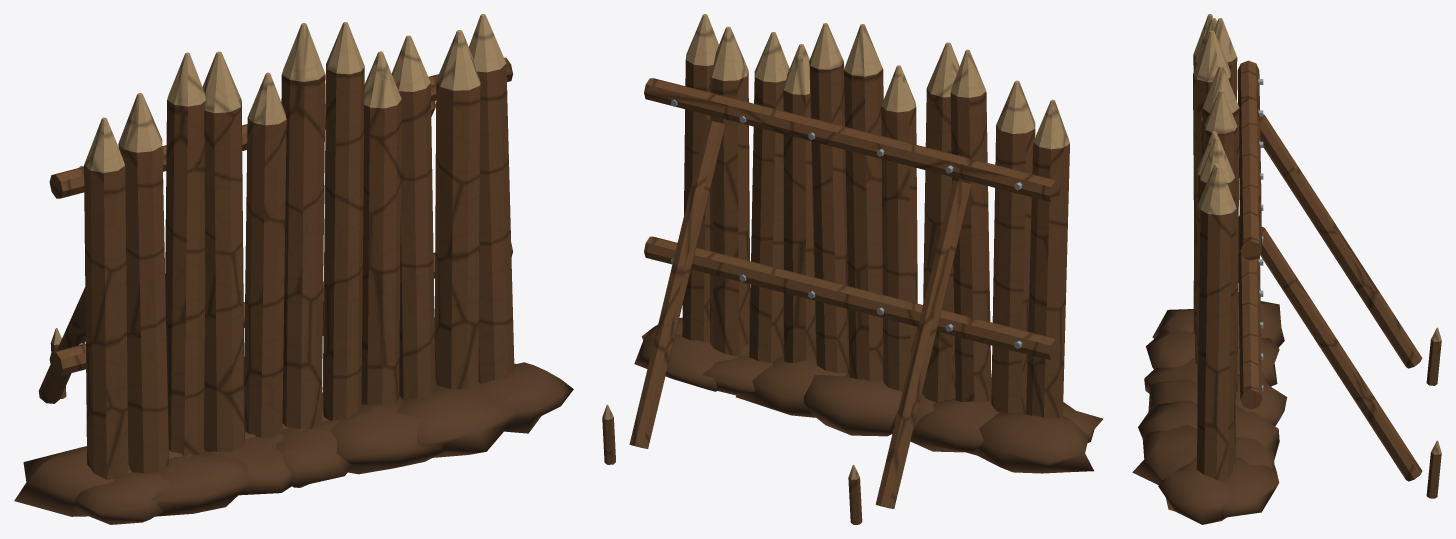
Rendered from palisade_section.glb.
The picture shows the model from 3 angles, left to right: view 1: azimuth 30°, elevation 25°; view 2: azimuth 150°, elevation 25°; view 3: azimuth 270°, elevation 25°; orthographic projection. The views are drawn at different scales.
Parts seen in each view (by area): view 1: palisade_section; view 2: palisade_section; view 3: palisade_section.
Boxes of the visible parts, box(x1,y1,x2,y2) form: palisade_section: box(14, 14, 573, 524); palisade_section: box(602, 14, 1103, 524); palisade_section: box(1132, 14, 1441, 524).
Size of the model in its own units: 3.78 by 2.98 by 2.26.
Materials: 4 (4 with a texture image).
